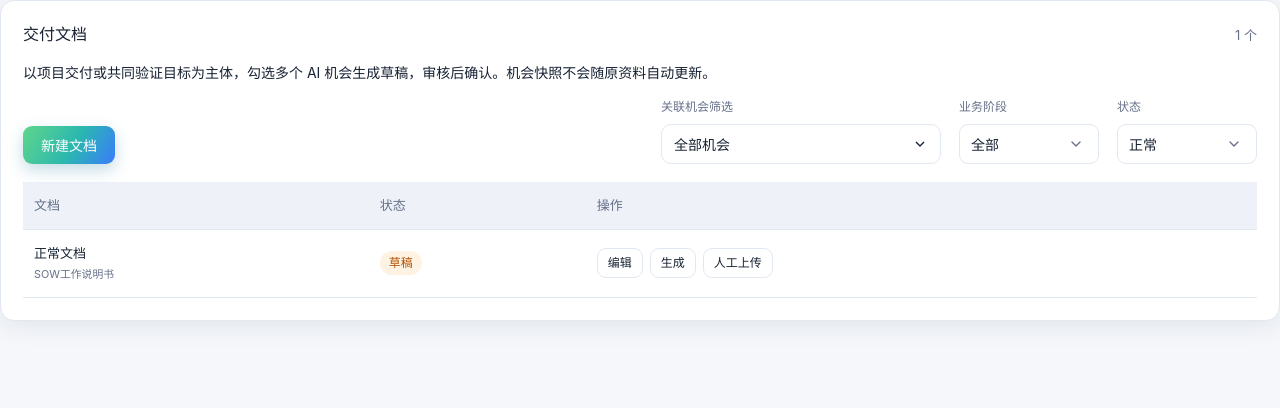
it: defaults to normal documents and can filter archived or all
expect the text "正常文档" is shown: met, box [34,245,86,261]
expect the text "已弃用文档" is not shown: met
Select "弃用" in the dropdown named "筛选文档状态" at (1187, 144), box [1117,124,1257,164]
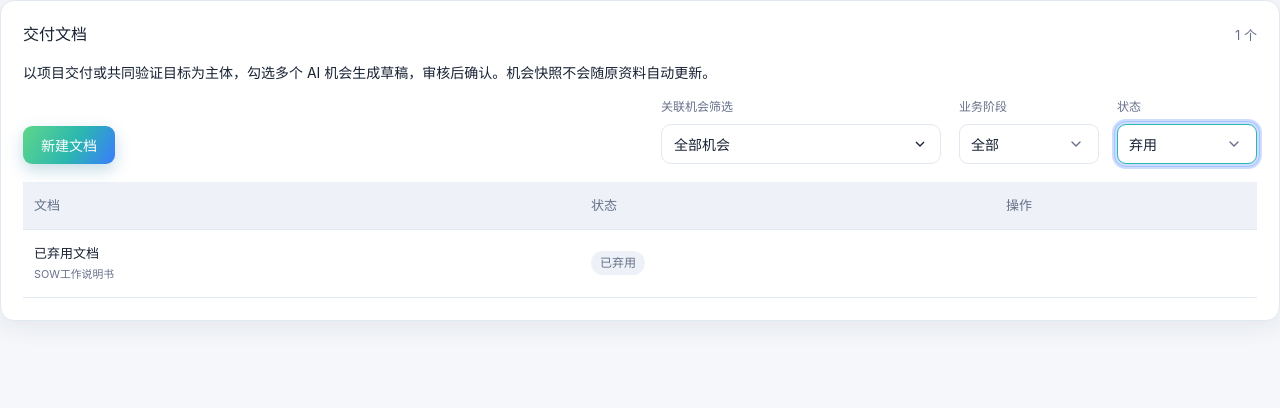
expect the text "已弃用文档" is shown: met, box [34,245,99,261]
expect the text "正常文档" is gone: met
Select "全部" in the dropdown named "筛选文档状态" at (1187, 144), box [1117,124,1257,164]
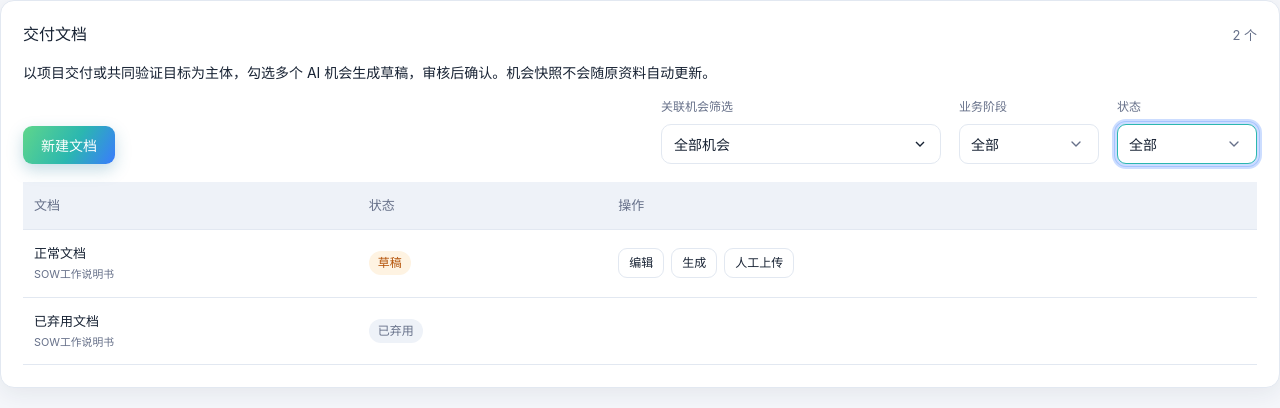
expect the text "已弃用文档" is shown: met, box [34,312,99,328]
expect the text "正常文档" is shown: met, box [34,245,86,261]
